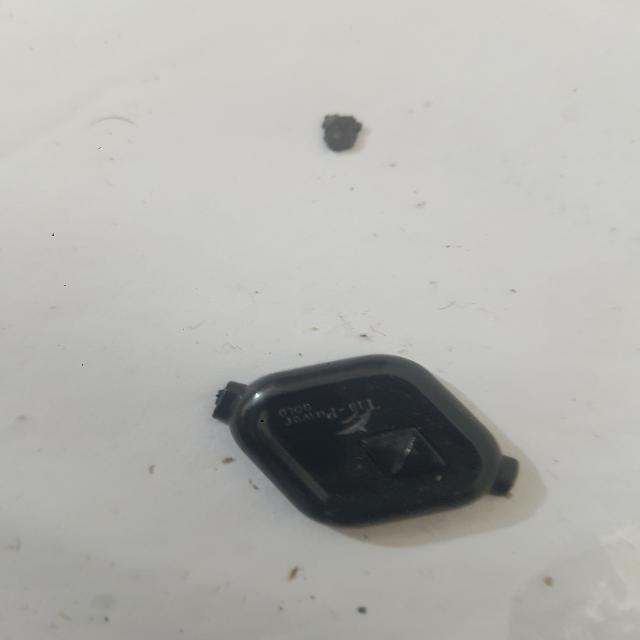electronic: (211, 352, 520, 529)
